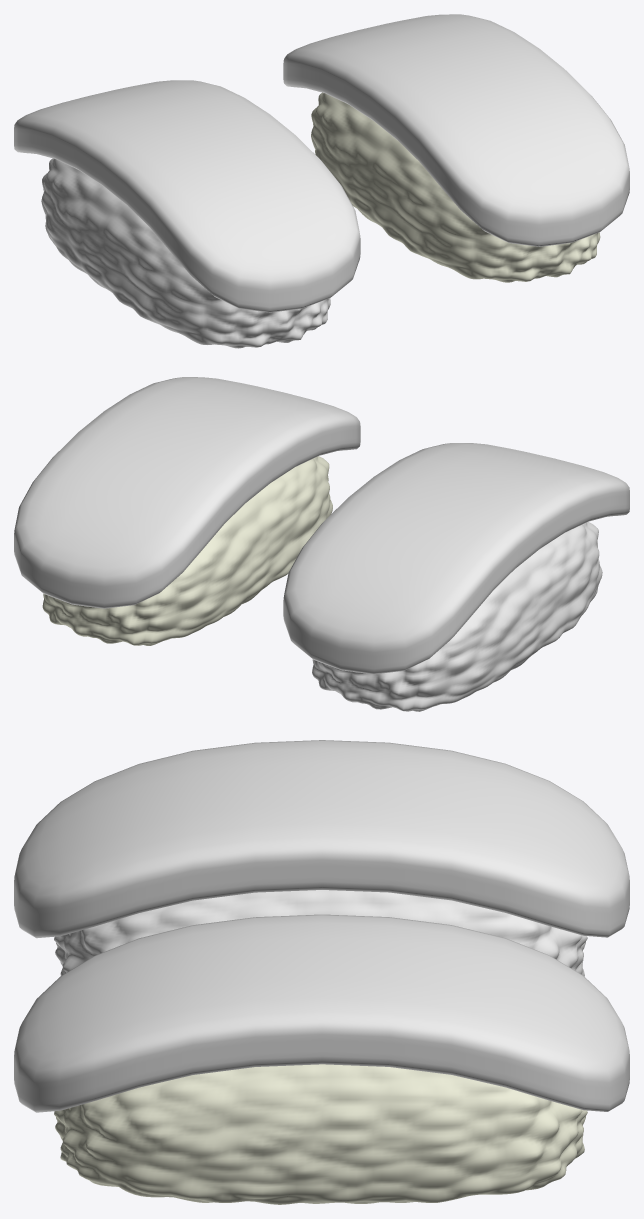
3 views of the same model, one above another, from view 1: azimuth 30°, elevation 25°; view 2: azimuth 150°, elevation 25°; view 3: azimuth 270°, elevation 25° (orthographic). The views are drawn at different scales.
Parts seen in each view (by area): view 1: Salmon1, Salmon1.001, Rice1.001, Rice1; view 2: Salmon1, Salmon1.001, Rice1.001, Rice1; view 3: Salmon1, Salmon1.001, Rice1, Rice1.001.
Boxes of the visible parts, x1,y1,x2,y2 form: Salmon1: (283,14,629,246); Salmon1.001: (14,80,360,312); Rice1.001: (41,158,330,348); Rice1: (311,92,600,282); Salmon1: (14,377,360,608); Salmon1.001: (283,443,629,674); Rice1.001: (312,522,602,711); Rice1: (42,456,332,645); Salmon1: (14,914,629,1112); Salmon1.001: (14,740,629,938); Rice1: (54,1064,587,1204); Rice1.001: (54,890,587,976).
Bounding box in the file's own units: 534 × 182 × 484.
